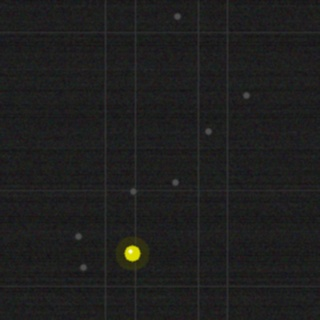yellow_warning: (122, 243, 142, 263)
